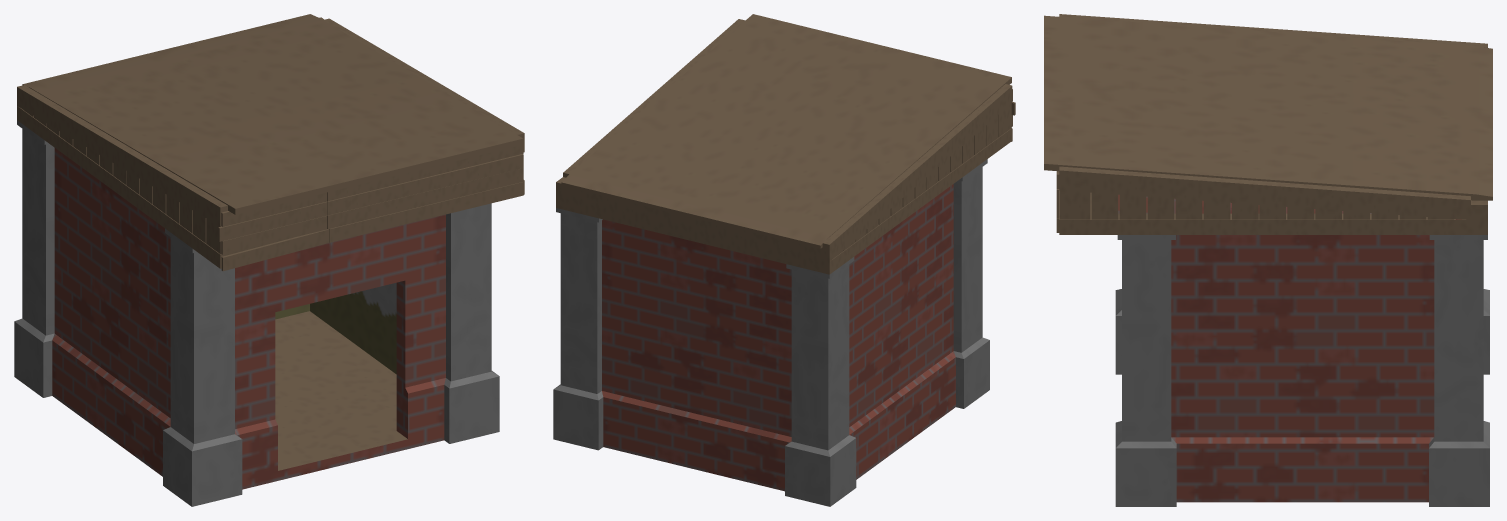
The model's file is Building1floor.fbx.
The picture shows the model from 3 angles, left to right: view 1: azimuth 30°, elevation 25°; view 2: azimuth 150°, elevation 25°; view 3: azimuth 270°, elevation 25°; orthographic projection. The views are drawn at different scales.
Visible parts, largest first — view 1: КПП.008; view 2: КПП.008; view 3: КПП.008.
Part boxes in pixels (box(x1,y1,x2,y2)): КПП.008: box(14, 14, 524, 506); КПП.008: box(553, 14, 1015, 506); КПП.008: box(1044, 14, 1492, 506).
Size of the model in its own units: 546 by 542 by 653.
